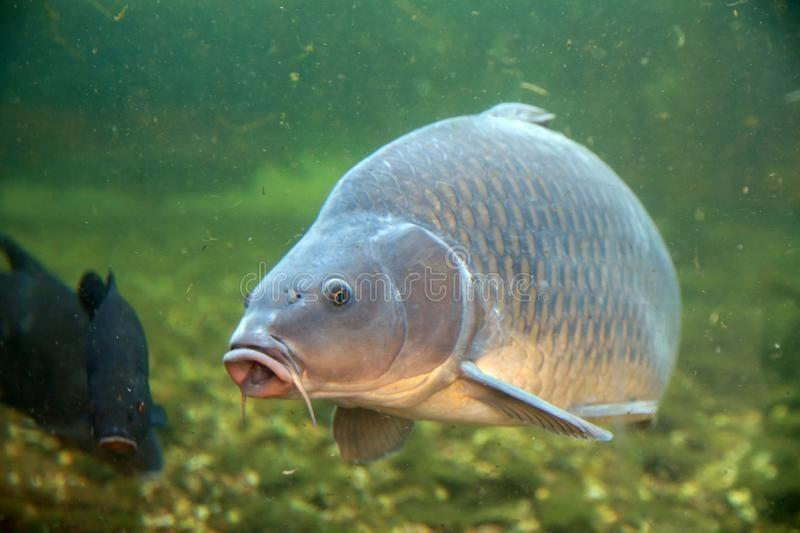Grass Carp: (222, 99, 693, 464)
